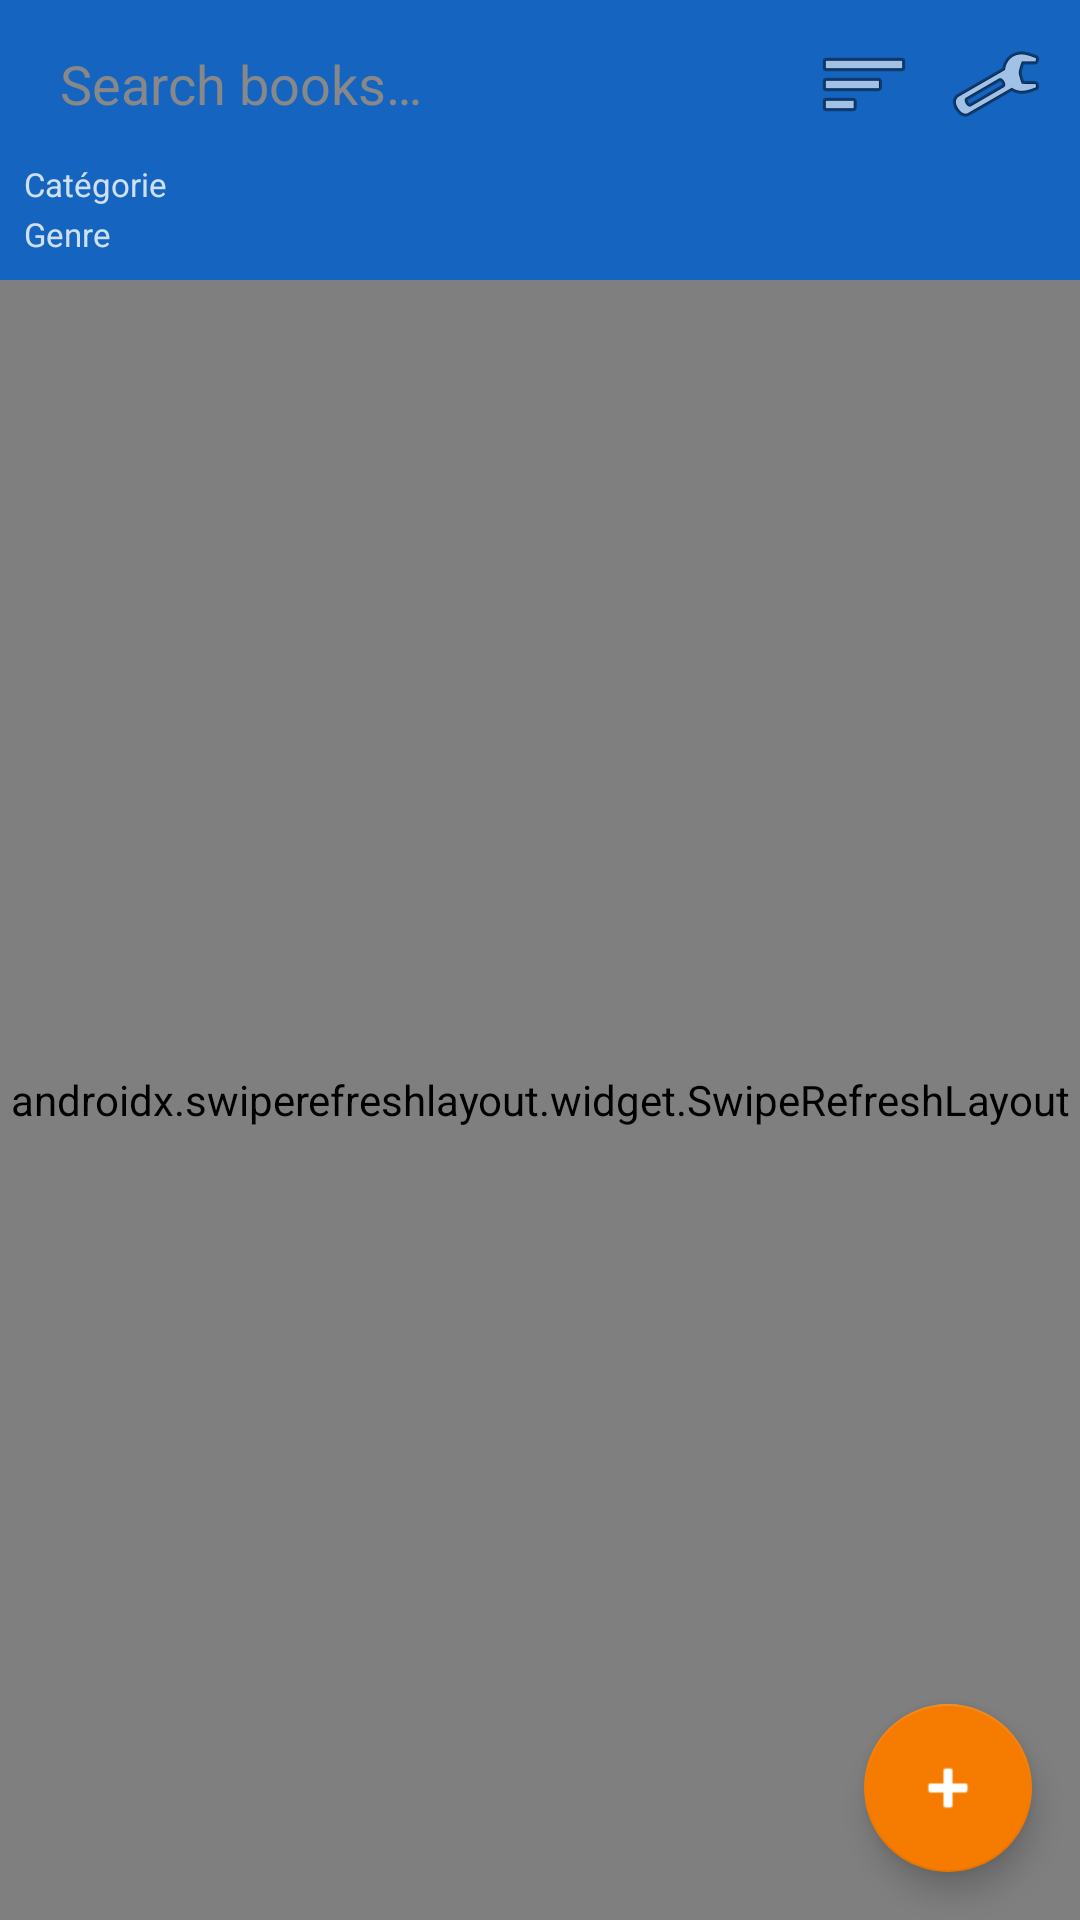

Named icons in this screenshot (1080 x 1920) and their bounding boxes, (x1, y1, x2, y2):
Server config: (953, 51, 1039, 117)
Trier: (823, 58, 905, 111)
Upload book: (864, 1704, 1032, 1872)
